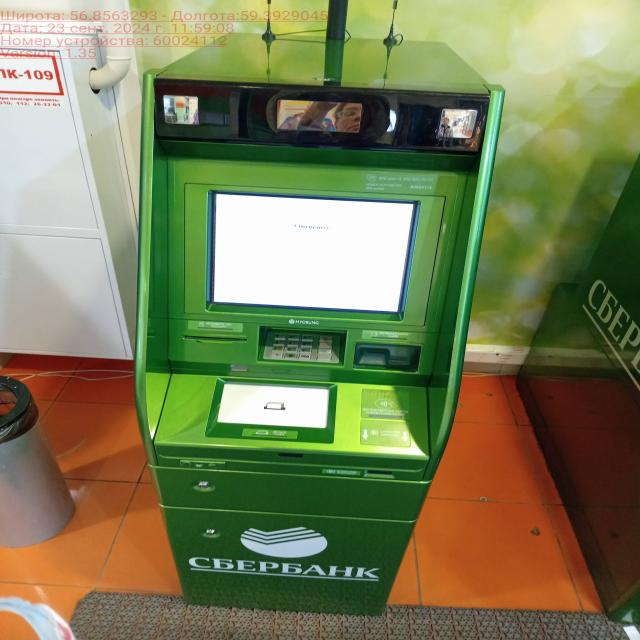bank: (125, 29, 497, 623), (520, 137, 639, 640)
